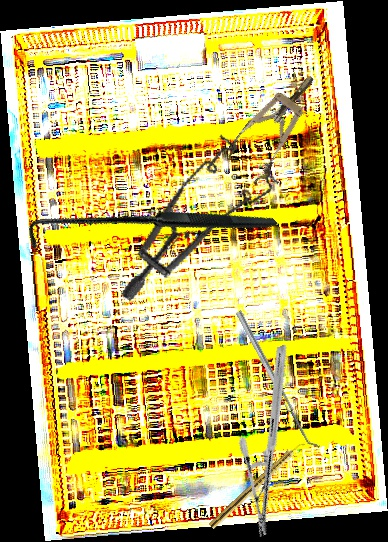Handpiece: (208, 438, 307, 532)
Hook Surgical: (20, 101, 279, 359)
Needle Holder: (193, 344, 351, 538)
Spatula Surgical: (235, 307, 321, 453)
Speculum: (121, 120, 287, 330), (220, 62, 332, 189)
